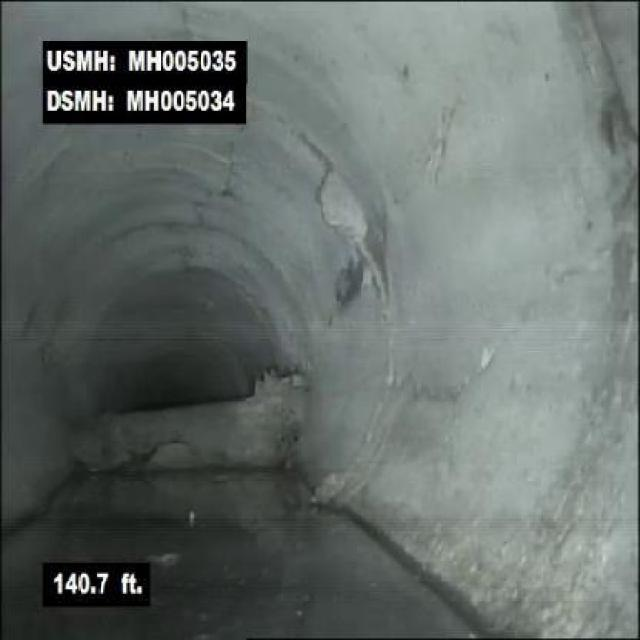Crack: (397, 242, 612, 409), (170, 6, 198, 37)
